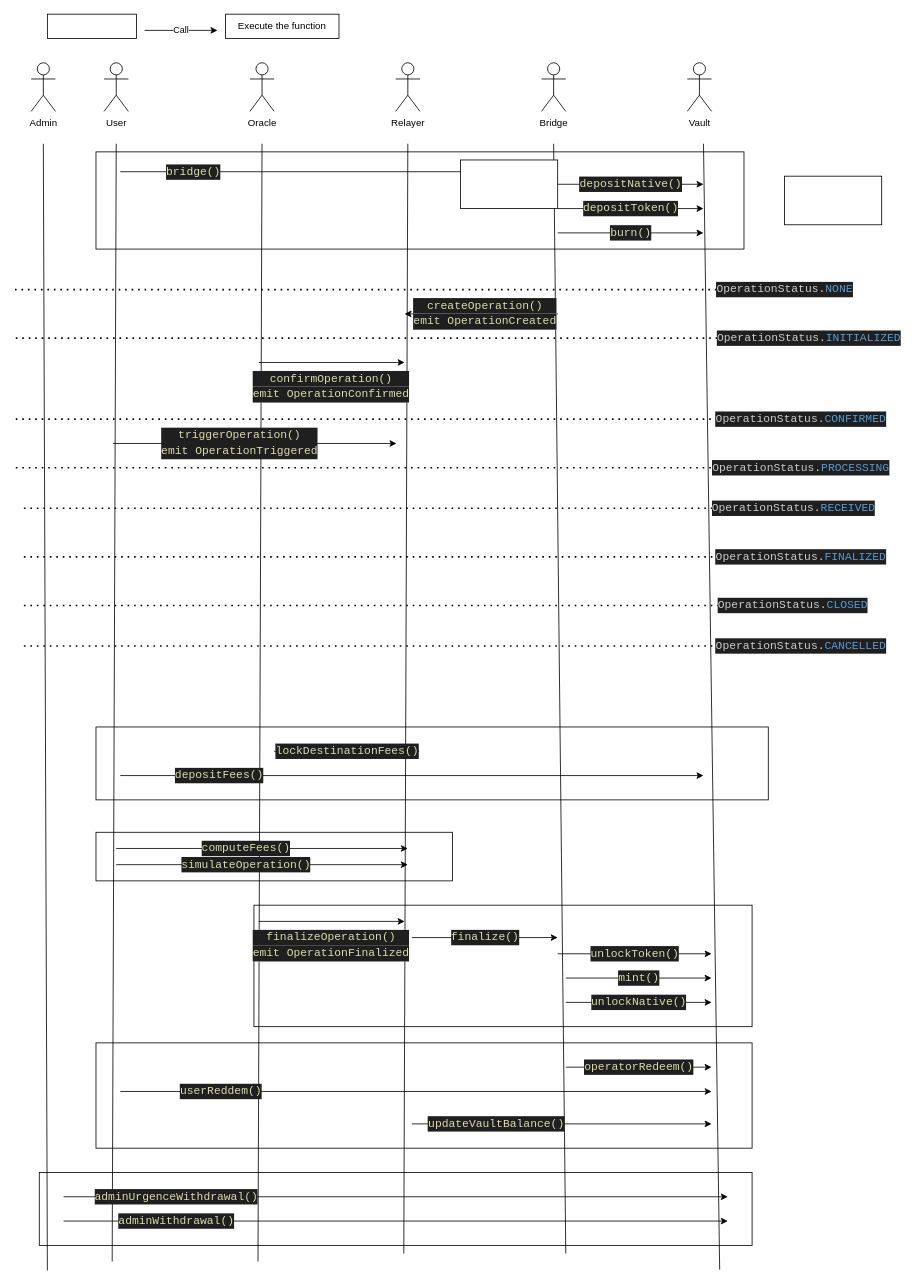
Some shapes in this 914 by 1285 pixel diagram are drawn without their labels. Here are the shapes that lost their labels. From the top down, the box of each, then its label:
(47, 13, 136, 38): Call the function
(784, 175, 882, 225): TokenFactory emit BridgeTokenCreated
